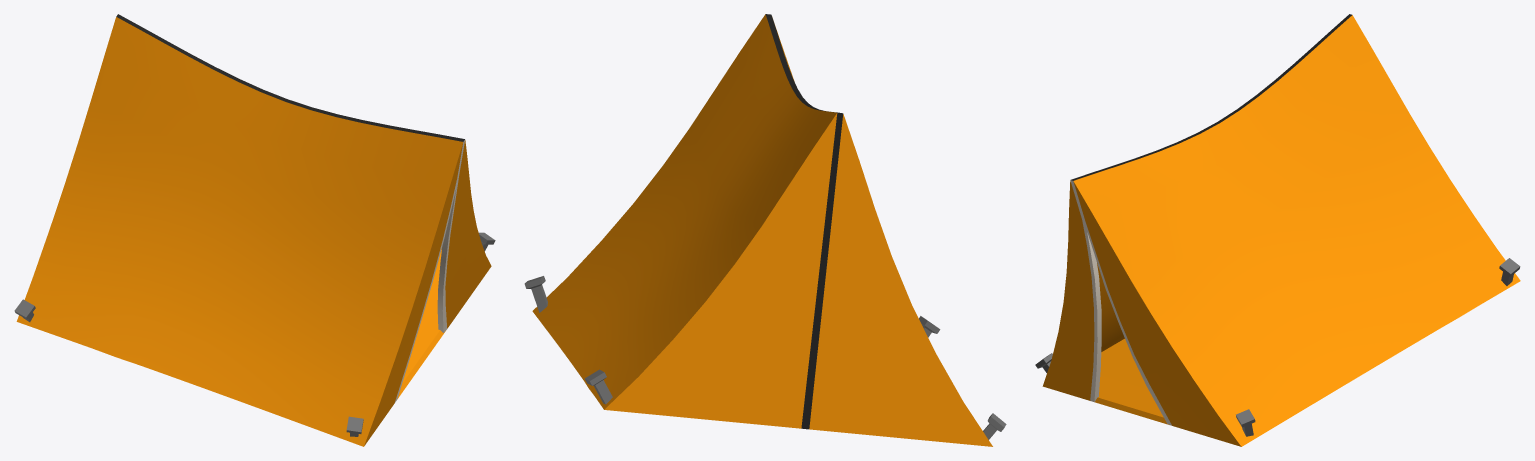
File: tent.fbx
The picture shows the model from 3 angles, left to right: view 1: azimuth 30°, elevation 25°; view 2: azimuth 150°, elevation 25°; view 3: azimuth 270°, elevation 25°; orthographic projection. The views are drawn at different scales.
Parts seen in each view (by area): view 1: Cube.509; view 2: Cube.509; view 3: Cube.509.
Part boxes in pixels (x1=…): Cube.509: x1=14, y1=14, x2=495, y2=446; Cube.509: x1=524, y1=14, x2=1006, y2=446; Cube.509: x1=1035, y1=14, x2=1520, y2=446.
Size of the model in its own units: 235 by 171 by 228.
1 material, 1 textured.
